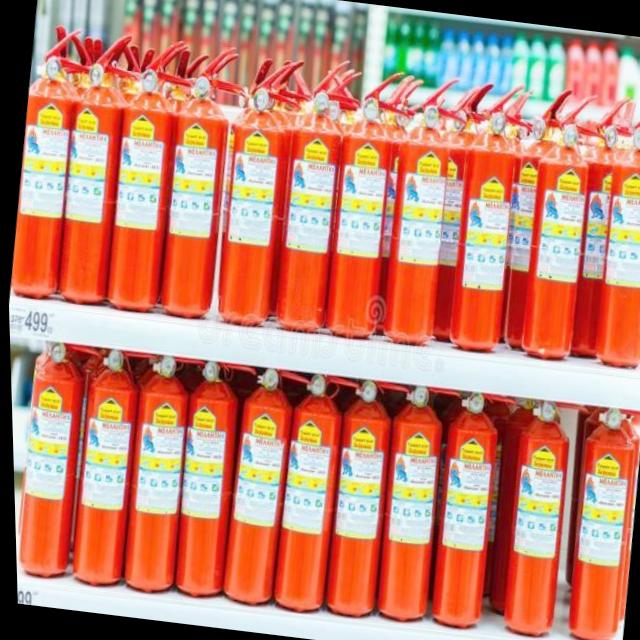FireExtinguisher: (144, 31, 254, 324), (433, 67, 541, 364), (259, 50, 369, 340), (368, 61, 478, 349), (46, 20, 154, 312), (200, 44, 308, 334), (93, 25, 199, 318), (312, 56, 416, 348), (509, 84, 615, 364), (409, 70, 508, 345), (545, 84, 640, 364), (1, 18, 93, 307), (488, 73, 581, 358), (482, 391, 584, 640), (107, 346, 206, 596), (155, 352, 254, 601), (205, 362, 303, 610), (56, 344, 154, 590), (310, 373, 404, 622), (8, 332, 98, 583), (361, 377, 454, 619), (260, 364, 349, 615), (417, 382, 507, 626), (551, 400, 640, 640), (576, 87, 640, 374)
